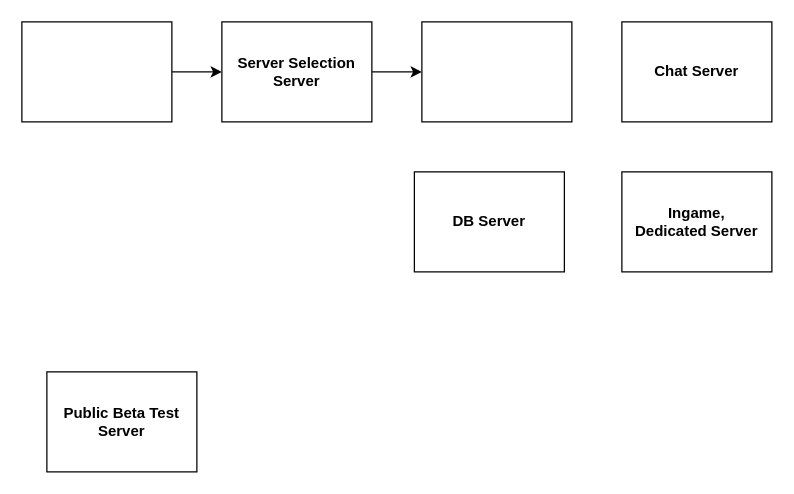
Image size: 794x494. Some labels were removed from this diagram. The box of each missing label's shape, as (x1, y1, x2, y2) in pixels:
Launcher Server: (21, 21, 172, 122)
Main Server: (421, 21, 572, 122)
